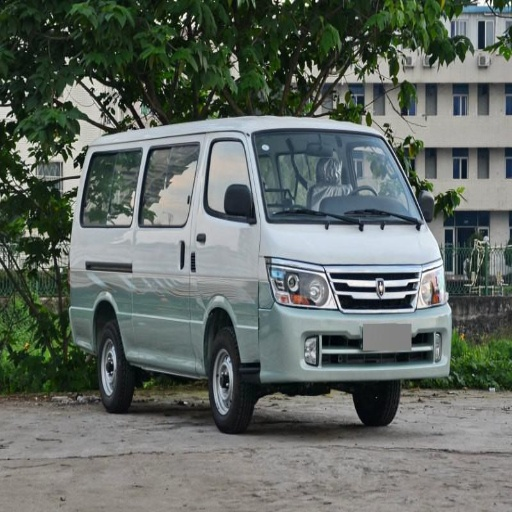front_bumper: (260, 266, 452, 380)
front_glass: (251, 129, 420, 223)
front_left_light: (417, 260, 447, 308)
front_right_door: (207, 136, 260, 273)
front_right_light: (271, 266, 331, 307)
hood: (277, 224, 440, 267)
trunk: (88, 248, 252, 357)
